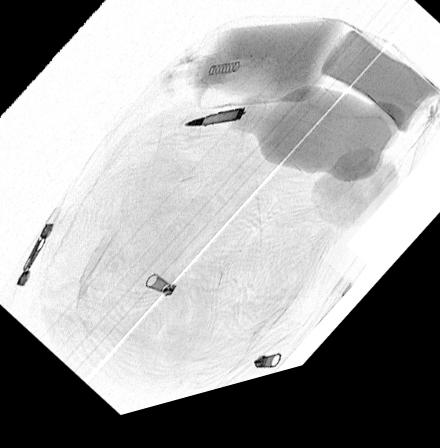Bullet: (185, 119, 245, 138)
